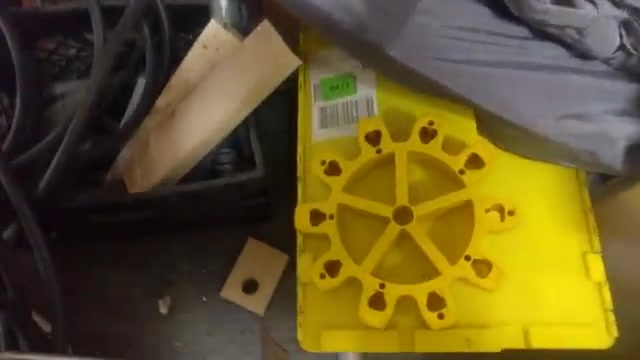gear: (286, 102, 534, 336)
